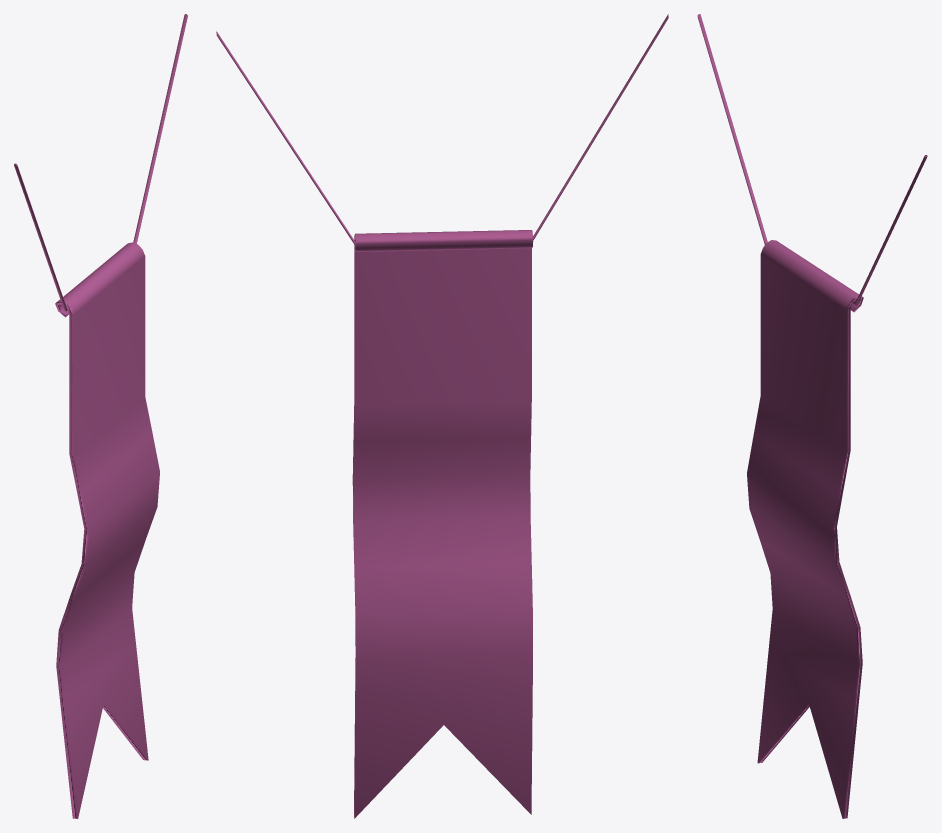
The model's file is banner_low.fbx.
3 renders of one model, left to right at view 1: azimuth 30°, elevation 25°; view 2: azimuth 150°, elevation 25°; view 3: azimuth 270°, elevation 25°, orthographic. The views are drawn at different scales.
Visible parts, largest first — view 1: banner1; view 2: banner1; view 3: banner1.
Part boxes in pixels (left/top/right/bottom): banner1: left=14, top=14, right=187, bottom=818; banner1: left=216, top=14, right=668, bottom=818; banner1: left=697, top=14, right=927, bottom=818.
Size of the model in its own units: 6.83 by 16.04 by 4.74.
